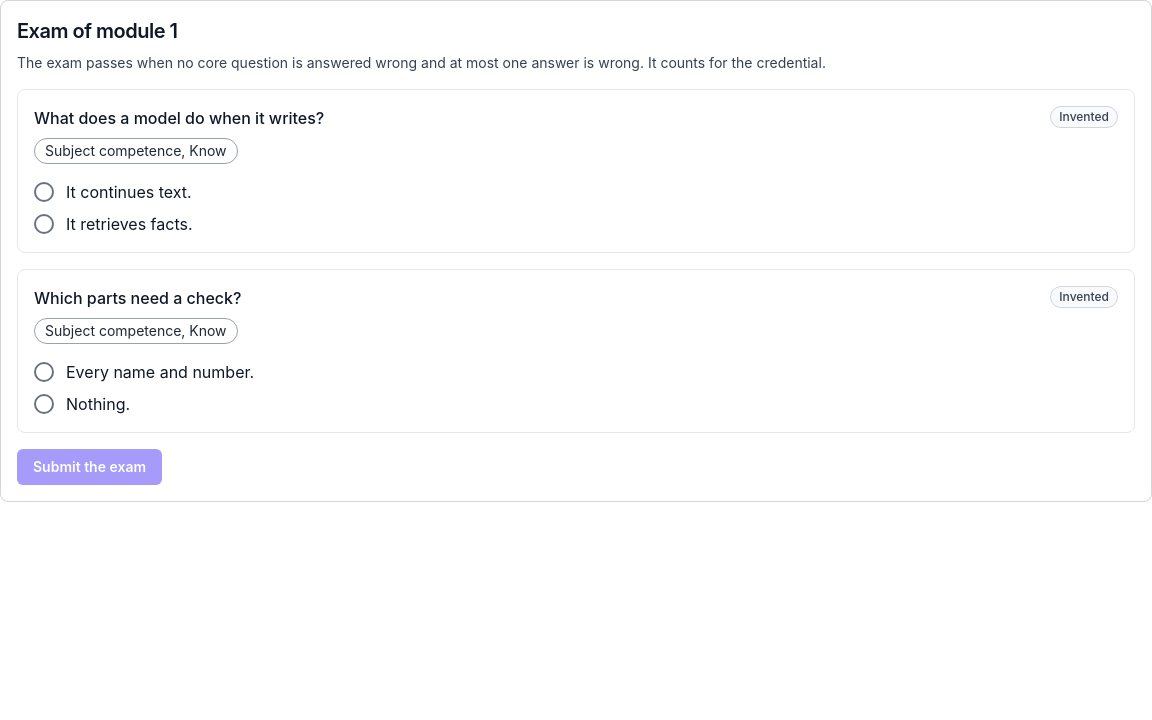
Test: ExamSection › submit is disabled until every exam item has an answer
expect the heading "Exam of module 1" is shown: met, box [17,19,178,43]
expect the button "Submit the exam" is disabled: met, box [17,449,162,485]
Click the radio button named "It continues text." next to "It continues text.": click(44, 192) [34,182,54,202]
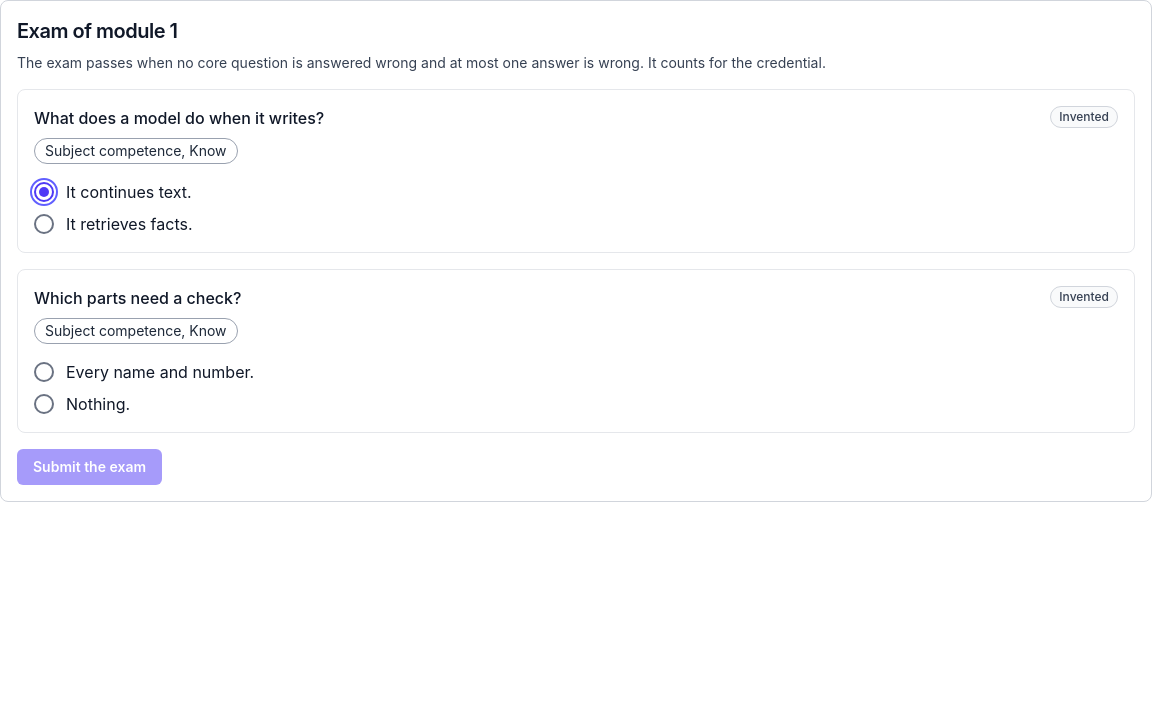
expect the button "Submit the exam" is disabled: met, box [17,449,162,485]
Click the radio button named "Nothing." next to "Nothing.": click(44, 404) [34,394,54,414]
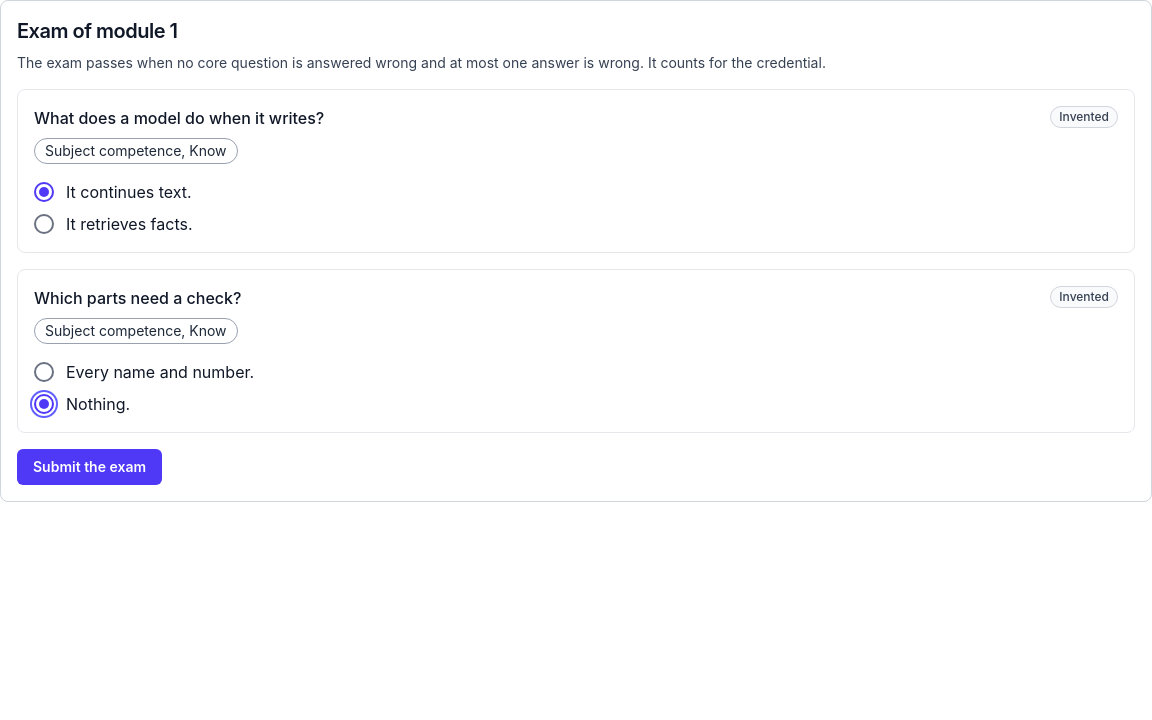
expect the button "Submit the exam" is enabled: met, box [17,449,162,485]
